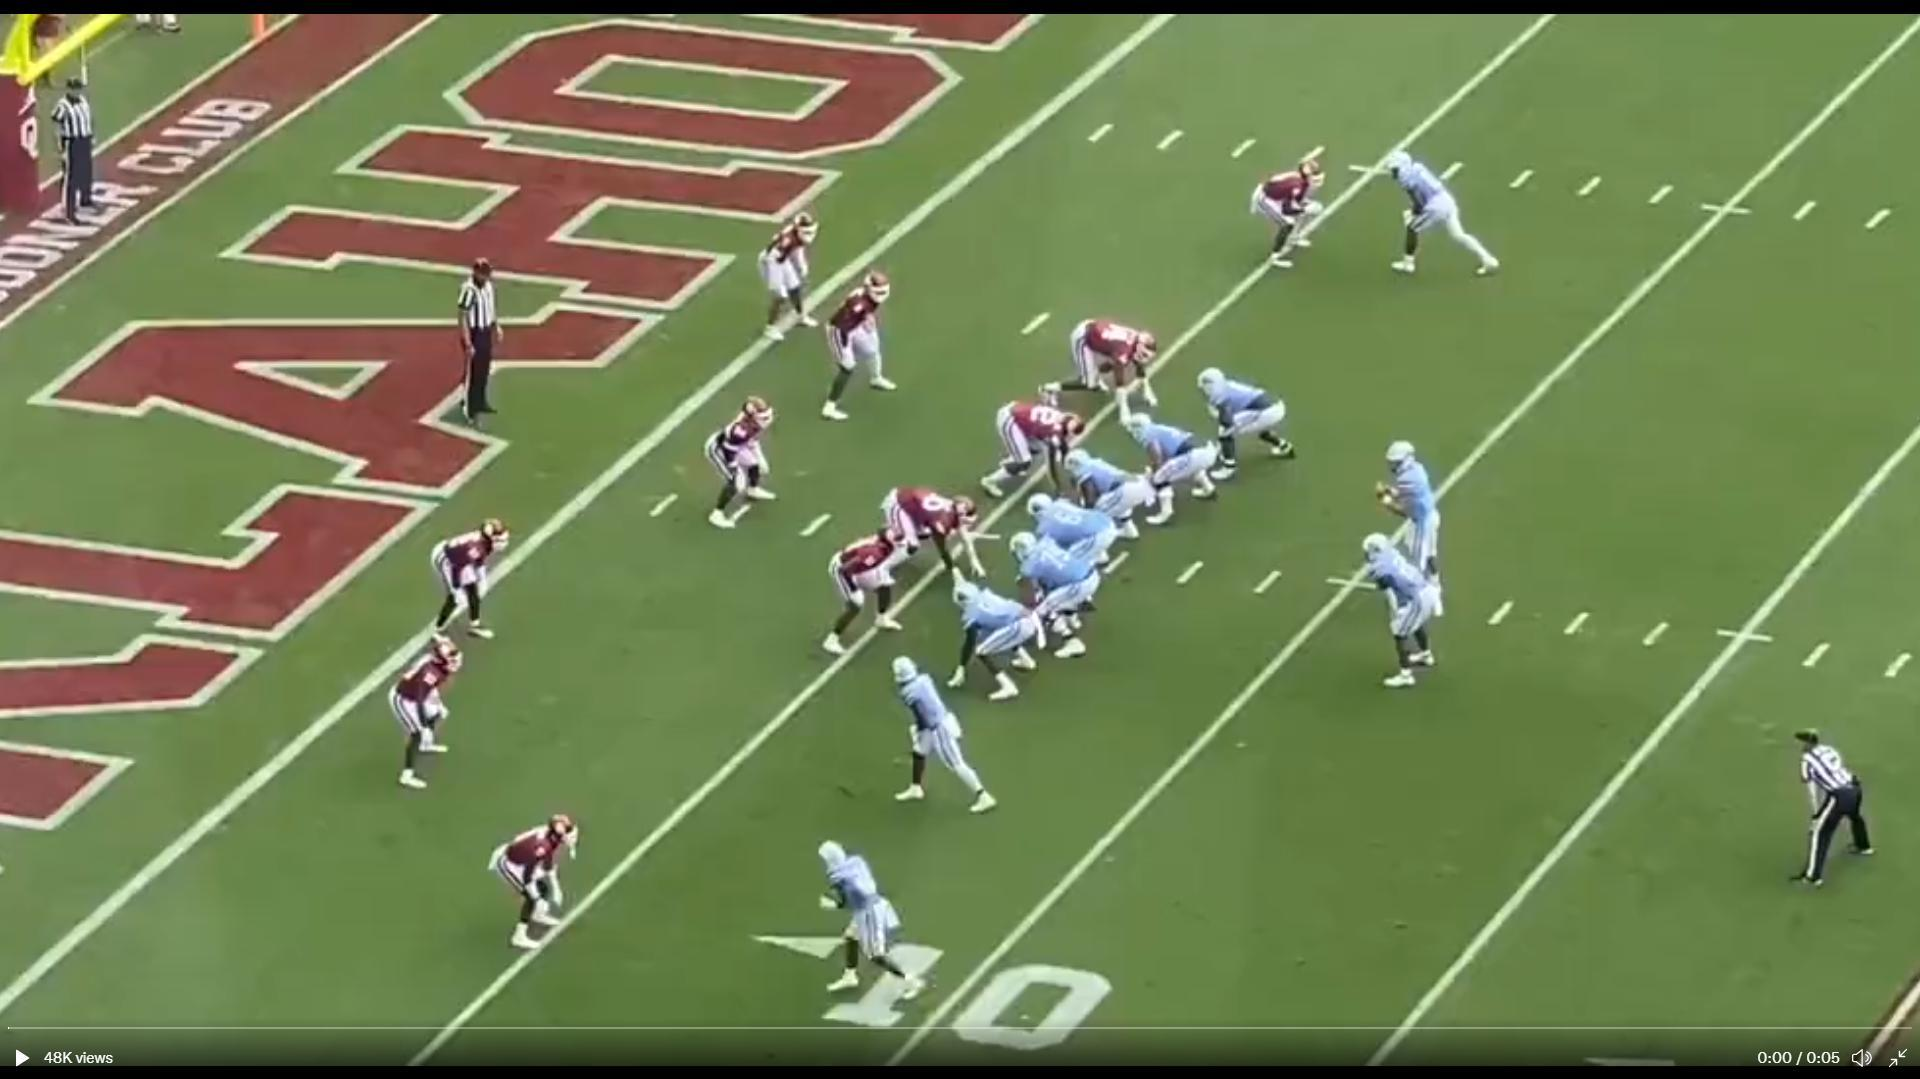player: (808, 832, 945, 1000), (883, 651, 1000, 823), (1385, 145, 1509, 289), (501, 806, 596, 960), (1366, 536, 1452, 693), (954, 576, 1053, 711), (814, 529, 907, 670), (388, 630, 466, 797), (1042, 317, 1161, 424), (823, 267, 900, 432), (981, 397, 1093, 509), (867, 485, 988, 584), (707, 388, 783, 538), (1015, 533, 1103, 662), (1201, 364, 1296, 482), (1249, 147, 1329, 280), (438, 511, 511, 650), (1131, 412, 1220, 525), (764, 209, 831, 351), (1377, 438, 1439, 580), (1066, 443, 1153, 543), (1026, 492, 1115, 575)
ref: (1793, 723, 1881, 898), (51, 75, 113, 222), (453, 249, 502, 424)
